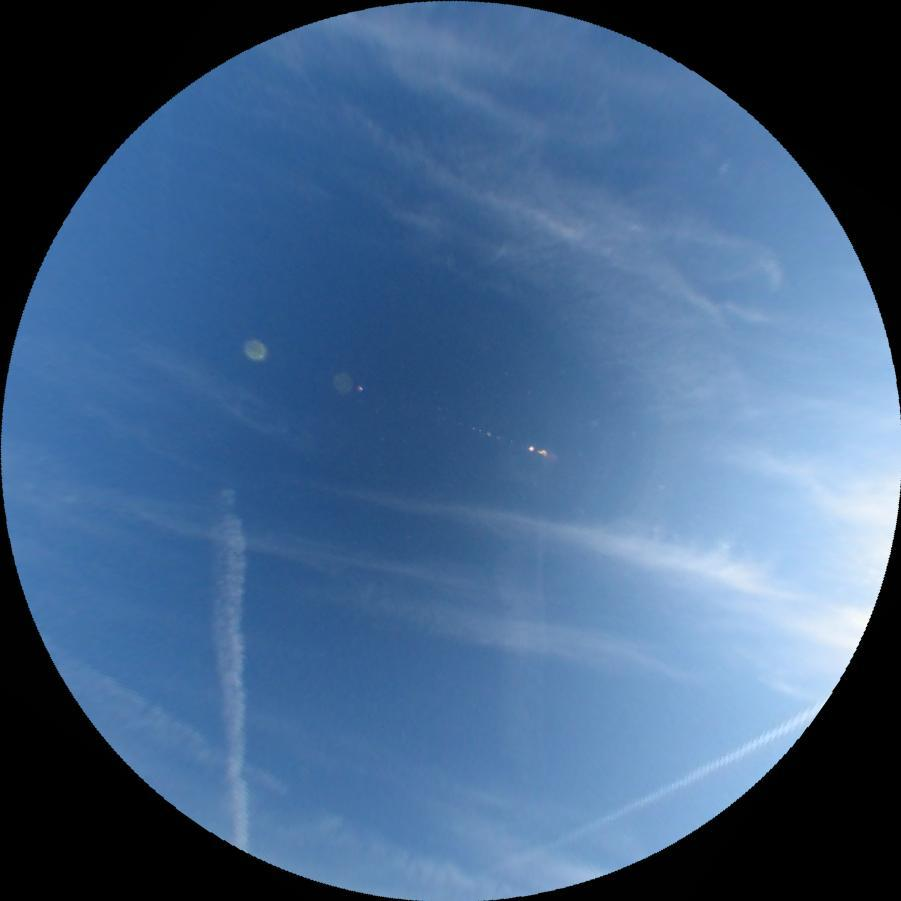contrail old: (475, 696, 833, 886)
contrail veryold: (208, 487, 258, 852), (494, 449, 547, 761)
